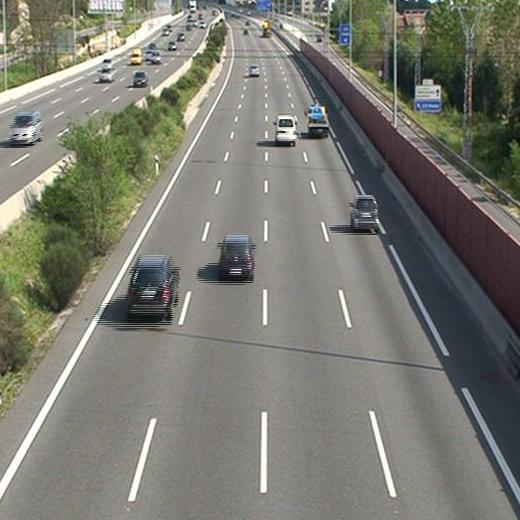car: (124, 256, 179, 316), (216, 235, 256, 277), (351, 195, 379, 232), (247, 64, 260, 76)
small-truck: (305, 107, 330, 136)
van: (274, 114, 297, 145)
